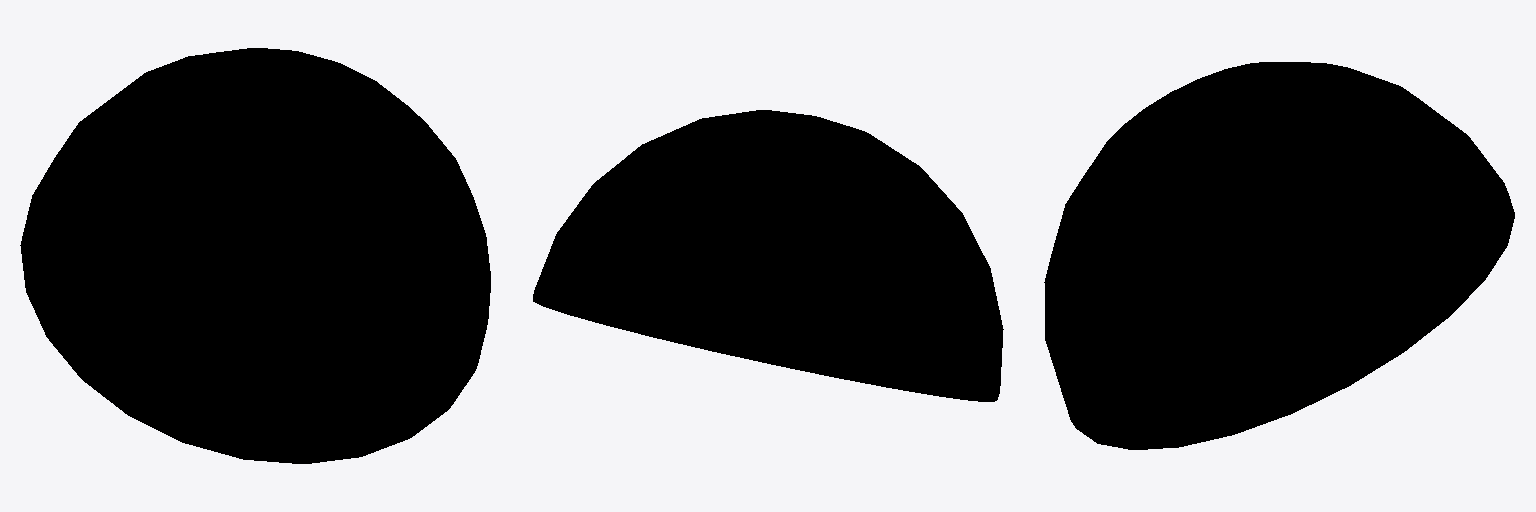
The robot description file, URDF, robot "raven_2":
<?xml version="1.0"?>
<!--RavenII Surgical Robot 2-Arm urdf File -->
<!--Author: Sina Nia Kosari & Lee White-->
<[email redacted] & leewhite@uw.edu-->
<!--Date: 01-Dec-2011 -->
<!--Biorobotics Laboratory -->
<!--University of Washington -->

<robot name="raven_2">

  <link name="0_link">
   <visual>
     <origin xyz="0 0 0" rpy="0 0 0" />
     <geometry>
       <box size=".001 .001 .001" />
     </geometry>
     <material name="Cyan">
       <color rgba="0 255 255 1.0"/>
     </material>
   </visual>
  </link>

  <!-- LEFT ARM LINKS -->
  <link name="base_link_L2">
    <visual>
      <geometry>
        <mesh filename="package://raven_visualization/Raven_files/dome.dae"/>
      </geometry>
    <origin xyz="0 0 0" rpy="-1.57075 1.57075 -1.57075"/>
    </visual>
  </link>

  <link name="link1_L2">
    <visual>
      <geometry>
        <mesh filename=""/>
      </geometry>
    </visual>
  </link>

  <link name="link2_L2">
    <visual>
      <geometry>
        <mesh filename=""/>
      </geometry>
    </visual>
  </link>

  <link name="link3_L2">
    <visual>
      <geometry>
        <mesh filename=""/>
      </geometry>
    </visual>
  </link>

  <link name="instrument_shaft_L2">
    <visual>
      <geometry>
        <mesh filename=""/>
      </geometry>
    </visual>
  </link>

  <link name="wrist_L2">
    <visual>
      <geometry>
        <mesh filename=""/>
      </geometry>
    </visual>
  </link>

  <link name="grasper1_L2">
    <visual>
      <geometry>
        <mesh filename=""/>
      </geometry>
    <origin rpy="0 0 0" xyz="-0.00680 -0.00904 0.00452"/>
    </visual>
  </link>

  <link name="grasper2_L2">
    <visual>
      <geometry>
        <mesh filename=""/>
      </geometry>
    <origin rpy="0 0 0" xyz="-0.00680 -0.00904 0.00452"/>
    </visual>
  </link>


  <!-- RIGHT ARM LINKS -->
<link name="base_link_R2">
    <visual>
      <geometry>
        <mesh filename=""/>
      </geometry>
    <!--origin xyz="0 0 -1" rpy="0 1.57075 0"/-->
    <origin xyz="0 0 1" rpy="3.1415 -1.57075 0"/>
    </visual>
  </link>

  <link name="link1_R2">
    <visual>
      <geometry>
        <mesh filename=""/>
      </geometry>
    <origin xyz="1 0 0" rpy="0 0 0"/>
    </visual>
  </link>

  <link name="link2_R2">
    <visual>
      <geometry>
        <mesh filename=""/>
      </geometry>
    <origin xyz="1 0 0" rpy="0 0 0"/>
    </visual>
  </link>

  <link name="link3_R2">
    <visual>
      <geometry>
        <mesh filename=""/>
      </geometry>
    <origin xyz="1 0 0" rpy="0 0 0"/>
    </visual>
  </link>

  <link name="instrument_shaft_R2">
    <visual>
      <geometry>
        <mesh filename=""/>
      </geometry>
    <origin xyz="1 0 0" rpy="0 0 0"/>
    </visual>
  </link>

  <link name="wrist_R2">
    <visual>
      <geometry>
        <mesh filename=""/>
      </geometry>
    <origin xyz="1 0 0" rpy="0 0 0"/>
    </visual>
  </link>

  <link name="grasper1_R2">
    <visual>
      <geometry>
        <mesh filename=""/>
      </geometry>
    <origin rpy="0 0 0" xyz="1.00680 -0.00904 0.00452"/>
    </visual>
  </link>

  <link name="grasper2_R2">
    <visual>
      <geometry>
        <mesh filename=""/>
      </geometry>
    <origin rpy="0 0 0" xyz="1.00680 -0.00904 0.00452"/>
    </visual>
  </link>


  <!-- LEFT ARM JOINTS -->
  <joint name="camera_L2" type="fixed">
    
    <limit effort="1000.0" lower="0.0" upper="3.1415" velocity="0.5"/>
    <!-- Added 25deg rotation to pitch.  Was: origin rpy="-1.57075 -1.57075 1.57075" xyz="0.0 0.00 0"/-->
    <origin rpy="-1.57075 -2.0071286 1.57075" xyz="0.0 0.00 0"/>
    <parent link="0_link"/>
    <child link="base_link_L2"/>
  </joint>

  <joint name="shoulder_L2" type="revolute">
    <axis xyz="-1 0 0"/>
    <limit effort="1000.0" lower="-3.1415" upper="3.1415" velocity="0.5"/>
    <origin rpy="0 1.5705 0" xyz="0.0 0.0 0"/>
    <parent link="base_link_L2"/>
    <child link="link1_L2"/>
  </joint>

  <joint name="elbow_L2" type="revolute">
    <axis xyz="-0.2590   0.9014    -0.3471"/>
    <limit effort="1000.0" lower="-3.1415" upper="3.1415" velocity="0.5"/>
    <origin rpy="0 0 0" xyz="0.0 0.0 0"/>
    <parent link="link1_L2"/>
    <child link="link2_L2"/>
  </joint>

  <joint name="insertion_L2" type="prismatic">
    <axis xyz="-0.6012   -0.7460    0.2864"/>
    <limit effort="1000.0" lower="-.17" upper=".1" velocity="0.5"/>
    <origin rpy="0 0 0" xyz="0 0 0"/>
    <parent link="link2_L2"/>
    <child link="link3_L2"/>
  </joint>

  <joint name="tool_roll_L2" type="revolute">
    <axis xyz="-0.6012   -0.7460    0.2864"/>
    <limit effort="1000.0" lower="-3.1415" upper="3.1415" velocity="0.5"/>
    <origin rpy="0 0 0" xyz="0 0 0"/>
    <parent link="link3_L2"/>
    <child link="instrument_shaft_L2"/>
  </joint>

  <joint name="wrist_joint_L2" type="revolute">
    <axis xyz=" -0.5637    0.6523    0.5067"/>
    <limit effort="1000.0" lower="-2" upper="2" velocity="0.5"/>
    <origin rpy="0 0 0" xyz="0 0 0"/>
    <parent link="instrument_shaft_L2"/>
    <child link="wrist_L2"/>
  </joint>

  <joint name="grasper_joint_1_L2" type="revolute">
    <axis xyz="-0.5648    0.1427   -0.8128"/>
    <limit effort="1000.0" lower="-2" upper="2" velocity=".5"/>
    <origin rpy="0 0 0" xyz="0.00680 0.00904 -0.00452"/>
    <parent link="wrist_L2"/>
    <child link="grasper1_L2"/>
  </joint>

  <joint name="grasper_joint_2_L2" type="revolute">
    <axis xyz="-0.5648    0.1427   -0.8128"/>
    <limit effort="1000.0" lower="-2" upper="2" velocity=".5"/>
    <origin rpy="0 0 0" xyz="0.00680 0.00904 -0.00452"/>
    <parent link="wrist_L2"/>
    <child link="grasper2_L2"/>
  </joint>


  <!-- RIGHT ARM JOINTS -->
 <joint name="camera_R2" type="fixed">
    
    <limit effort="1000.0" lower="0.0" upper="3.1415" velocity="0.5"/>
    <!-- Added 25deg angle.  Was: origin rpy="1.57075 -1.57075 1.57075" xyz="-.2 0.00 0"/-->
    <origin rpy=" 1.57075 -2.0071286 1.57075" xyz="-.2 0.00 0"/>
    <parent link="0_link"/>
    <child link="base_link_R2"/>
  </joint>

  <joint name="shoulder_R2" type="revolute">
    <axis xyz="-1 0 0"/>
    <limit effort="1000.0" lower="-3.1415" upper="3.1415" velocity="0.5"/>
    <!--origin rpy="0 1.5705 0" xyz="0 0.0 0"/-->
    <origin rpy="3.1415 -1.57075 0" xyz="0 0.0 0"/>
    <parent link="base_link_R2"/>
    <child link="link1_R2"/>
  </joint>

  <joint name="elbow_R2" type="revolute">
    <axis xyz="-0.2590   -0.9014    0.3471"/>
    <limit effort="1000.0" lower="-3.1415" upper="3.1415" velocity="0.5"/>
    <origin rpy="0 0 0" xyz="0.0 0.0 0"/>
    <parent link="link1_R2"/>
    <child link="link2_R2"/>
  </joint>

  <joint name="insertion_R2" type="prismatic">
    <axis xyz="0.6012   -0.7460    0.2864"/>
    <limit effort="1000.0" lower="-.17" upper=".1" velocity="0.5"/>
    <origin rpy="0 0 0" xyz="0 0 0"/>
    <parent link="link2_R2"/>
    <child link="link3_R2"/>
  </joint>

  <joint name="tool_roll_R2" type="revolute">
    <axis xyz="0.6012   -0.7460    0.2864"/>
    <limit effort="1000.0" lower="-3.1415" upper="3.1415" velocity="0.5"/>
    <origin rpy="0 0 0" xyz="0 0 0"/>
    <parent link="link3_R2"/>
    <child link="instrument_shaft_R2"/>
  </joint>

  <joint name="wrist_joint_R2" type="revolute">
    <axis xyz=" 0.5637    0.6523    0.5067"/>
    <limit effort="1000.0" lower="-2" upper="2" velocity="0.5"/>
    <origin rpy="0 0 0" xyz="0 0 0"/>
    <parent link="instrument_shaft_R2"/>
    <child link="wrist_R2"/>
  </joint>

  <joint name="grasper_joint_1_R2" type="revolute">
    <axis xyz="0.5648    0.1427   -0.8128"/>
    <limit effort="1000.0" lower="-2" upper="2" velocity=".5"/>
    <origin rpy="0 0 0" xyz="-0.00680 0.00904 -0.00452"/>
    <parent link="wrist_R2"/>
    <child link="grasper1_R2"/>
  </joint>

  <joint name="grasper_joint_2_R2" type="revolute">
    <axis xyz="0.5648    0.1427   -0.8128"/>
    <limit effort="1000.0" lower="-2" upper="2" velocity=".5"/>
    <origin rpy="0 0 0" xyz="-0.00680 0.00904 -0.00452"/>
    <parent link="wrist_R2"/>
    <child link="grasper2_R2"/>
  </joint>


</robot>

--- Render facts (derived) ---
Views: 3 orthographic renders of the robot side by side, from view 1: azimuth 30°, elevation 25°; view 2: azimuth 150°, elevation 25°; view 3: azimuth 270°, elevation 25°.
Model raven_2 with 17 links and 16 joints (12 revolute, 2 prismatic, 2 fixed), rooted at 0_link, posed every joint at zero.
Links seen in each view (by area): view 1: base_link_L2; view 2: base_link_L2; view 3: base_link_L2.
Boxes of the visible links, <box> form: base_link_L2: <box>20,48,490,463</box>; base_link_L2: <box>533,110,1003,401</box>; base_link_L2: <box>1044,62,1514,449</box>.
Bounding box of the posed robot: 0.6557 × 0.6234 × 0.4684 m (x, y, z).
1 mesh visuals loaded from 1 distinct referenced files (1 Collada DAE).
